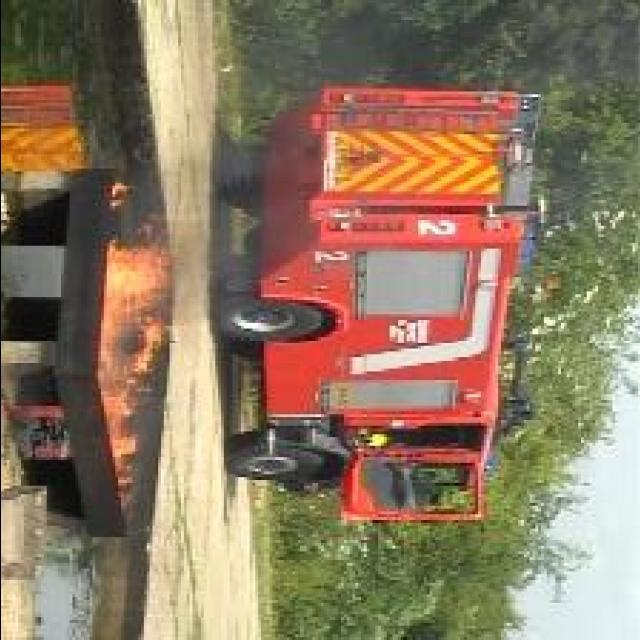Fire: (98, 243, 172, 511), (127, 316, 164, 373), (105, 183, 132, 211)
